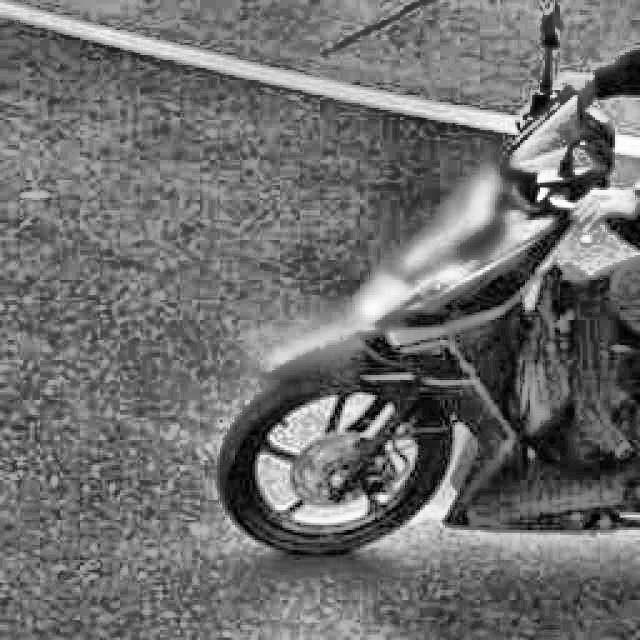motorcycle: (197, 0, 640, 564)
